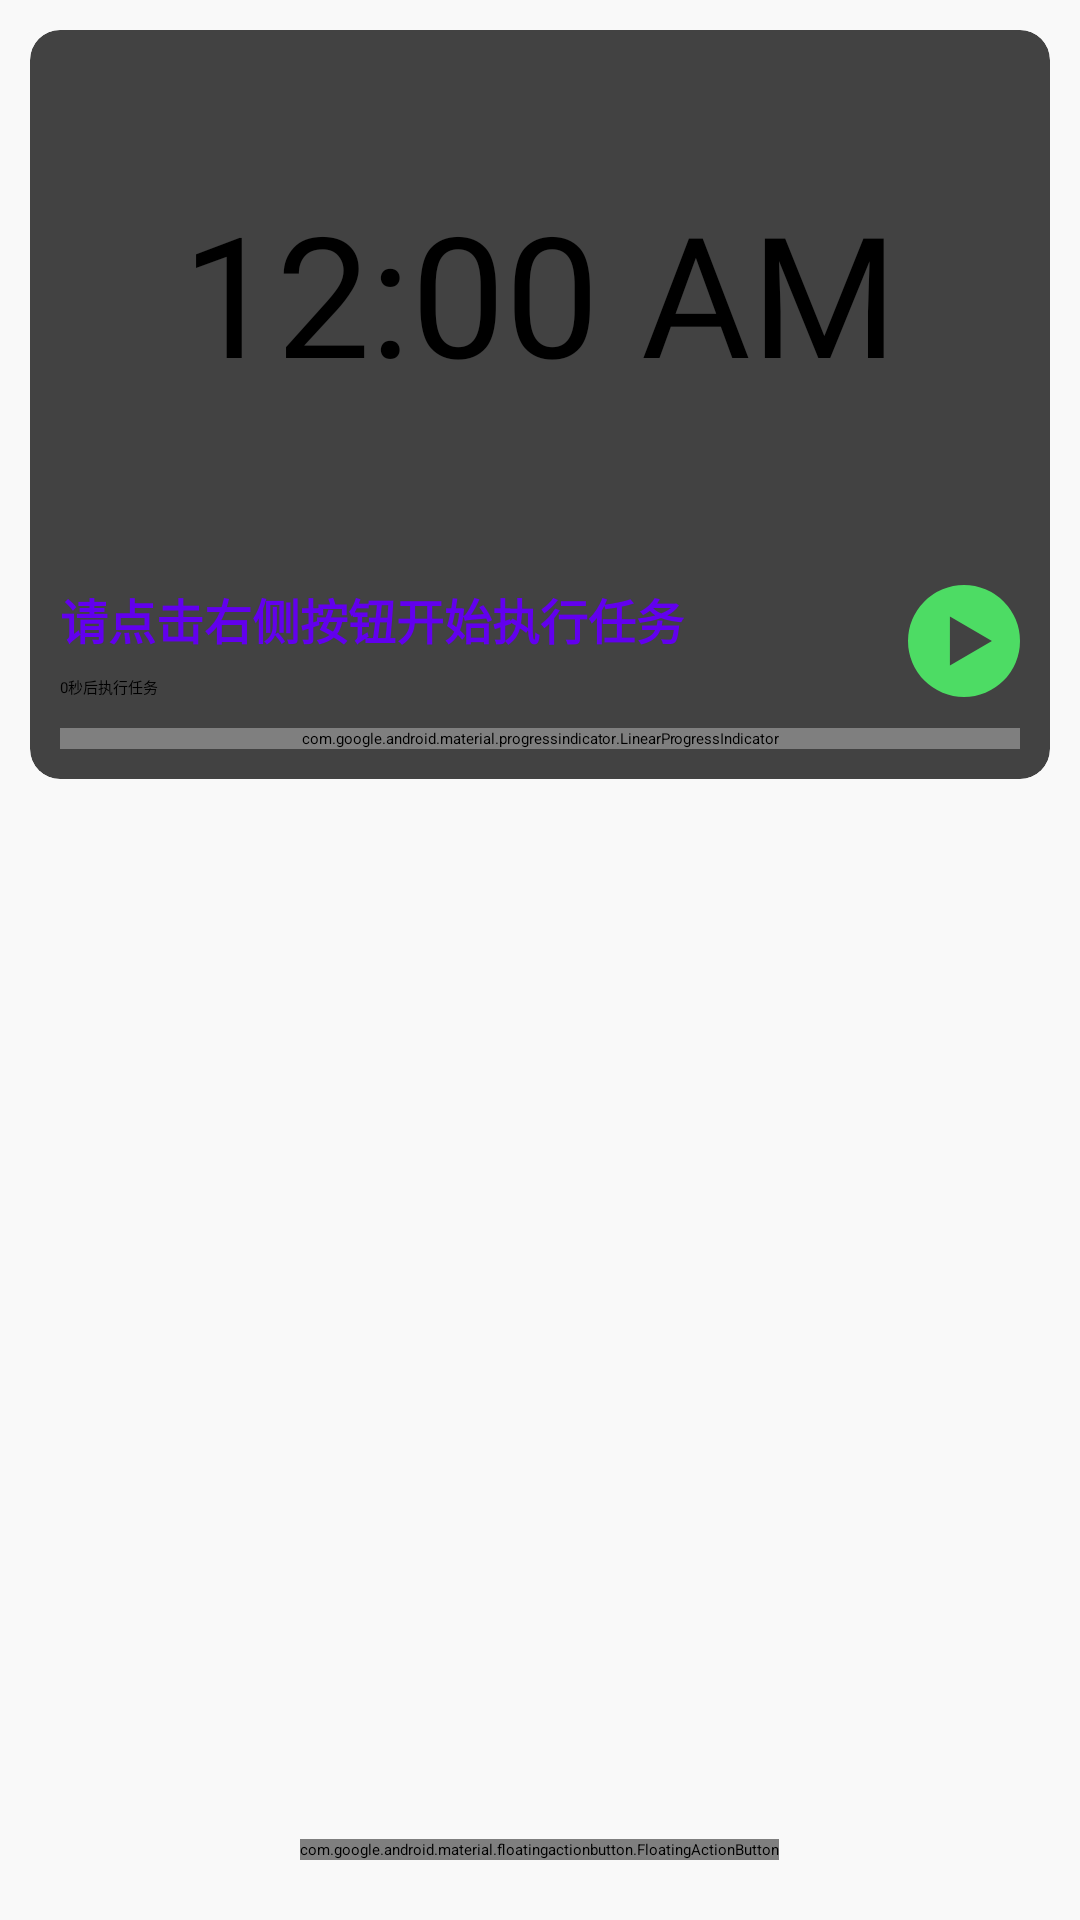

Icons on this 1080×1920 Android screen, each with the point to tap as (x=x, y=y):
start: (x=964, y=641)
